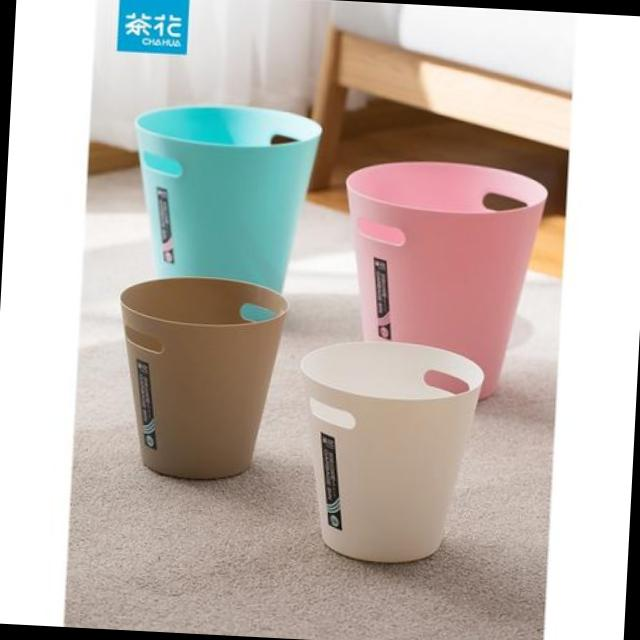dustbin: (330, 153, 551, 409), (286, 332, 488, 576), (122, 95, 328, 322), (106, 270, 294, 490)
